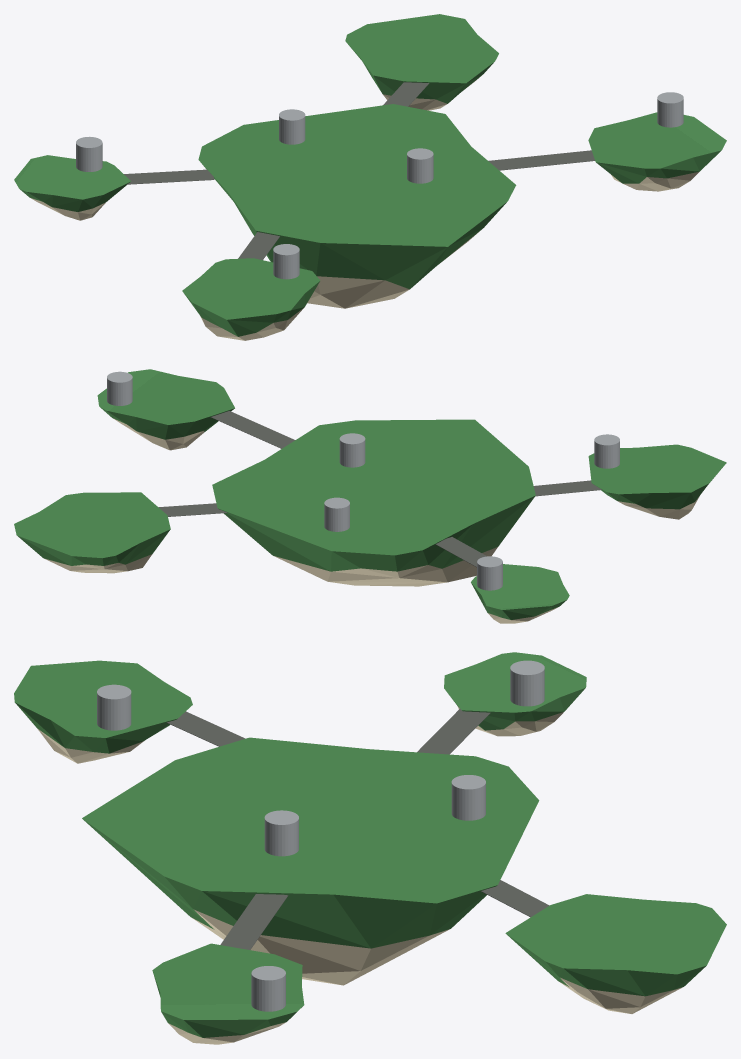
Rendered from stage.obj.
3 renders of one model, top to bottom at view 1: azimuth 30°, elevation 25°; view 2: azimuth 150°, elevation 25°; view 3: azimuth 270°, elevation 25°, orthographic. The views are drawn at different scales.
Visible parts, largest first — view 1: terrain.000_立方体.009, terrain.001_立方体.001, terrain.003_立方体.003, terrain.002_立方体.002, terrain.004_立方体.004, bridge.003_立方体.010, bridge.001_立方体.007, Cylinder.003_円柱.005, Cylinder.000_円柱.001, Cylinder.001_円柱.002, Cylinder.002_円柱.004, Cylinder.004_円柱.006 (+2 smaller); view 2: terrain.000_立方体.009, terrain.001_立方体.001, terrain.003_立方体.003, terrain.002_立方体.002, terrain.004_立方体.004, bridge.003_立方体.010, Cylinder.000_円柱.001, Cylinder.004_円柱.006, Cylinder.002_円柱.004, Cylinder.003_円柱.005, Cylinder.001_円柱.002, bridge.000_立方体.006 (+2 smaller); view 3: terrain.000_立方体.009, terrain.001_立方体.001, terrain.003_立方体.003, terrain.002_立方体.002, terrain.004_立方体.004, bridge.003_立方体.010, bridge.001_立方体.007, Cylinder.000_円柱.001, Cylinder.002_円柱.004, Cylinder.004_円柱.006, Cylinder.001_円柱.002, Cylinder.003_円柱.005 (+2 smaller).
Part boxes in pixels (x1,y1,x2,y2): terrain.000_立方体.009: [198, 104, 516, 308]; terrain.001_立方体.001: [345, 14, 498, 110]; terrain.003_立方体.003: [182, 258, 320, 340]; terrain.002_立方体.002: [588, 112, 726, 191]; terrain.004_立方体.004: [14, 155, 130, 220]; bridge.003_立方体.010: [488, 150, 594, 170]; bridge.001_立方体.007: [124, 169, 214, 184]; Cylinder.003_円柱.005: [657, 92, 683, 127]; Cylinder.000_円柱.001: [407, 148, 433, 183]; Cylinder.001_円柱.002: [279, 109, 305, 144]; Cylinder.002_円柱.004: [273, 244, 299, 279]; Cylinder.004_円柱.006: [76, 136, 102, 171]; terrain.000_立方体.009: [212, 419, 535, 586]; terrain.001_立方体.001: [14, 492, 170, 573]; terrain.003_立方体.003: [588, 444, 726, 519]; terrain.002_立方体.002: [97, 369, 234, 450]; terrain.004_立方体.004: [471, 564, 569, 623]; bridge.003_立方体.010: [211, 411, 295, 448]; Cylinder.000_円柱.001: [339, 433, 365, 467]; Cylinder.004_円柱.006: [477, 556, 502, 590]; Cylinder.002_円柱.004: [594, 434, 619, 468]; Cylinder.003_円柱.005: [107, 371, 132, 405]; Cylinder.001_円柱.002: [324, 497, 349, 531]; bridge.000_立方体.006: [533, 480, 601, 496]; terrain.000_立方体.009: [82, 737, 539, 985]; terrain.001_立方体.001: [505, 894, 726, 1013]; terrain.003_立方体.003: [14, 660, 192, 763]; terrain.002_立方体.002: [152, 943, 304, 1044]; terrain.004_立方体.004: [444, 652, 586, 736]; bridge.003_立方体.010: [220, 894, 288, 949]; bridge.001_立方体.007: [417, 708, 490, 754]; Cylinder.000_円柱.001: [264, 810, 298, 856]; Cylinder.002_円柱.004: [97, 684, 131, 730]; Cylinder.004_円柱.006: [510, 660, 544, 706]; Cylinder.001_円柱.002: [451, 775, 485, 820]; Cylinder.003_円柱.005: [251, 966, 285, 1011].
Size of the model in its own units: 252 by 53.96 by 206.
3 materials, 3 textured.
